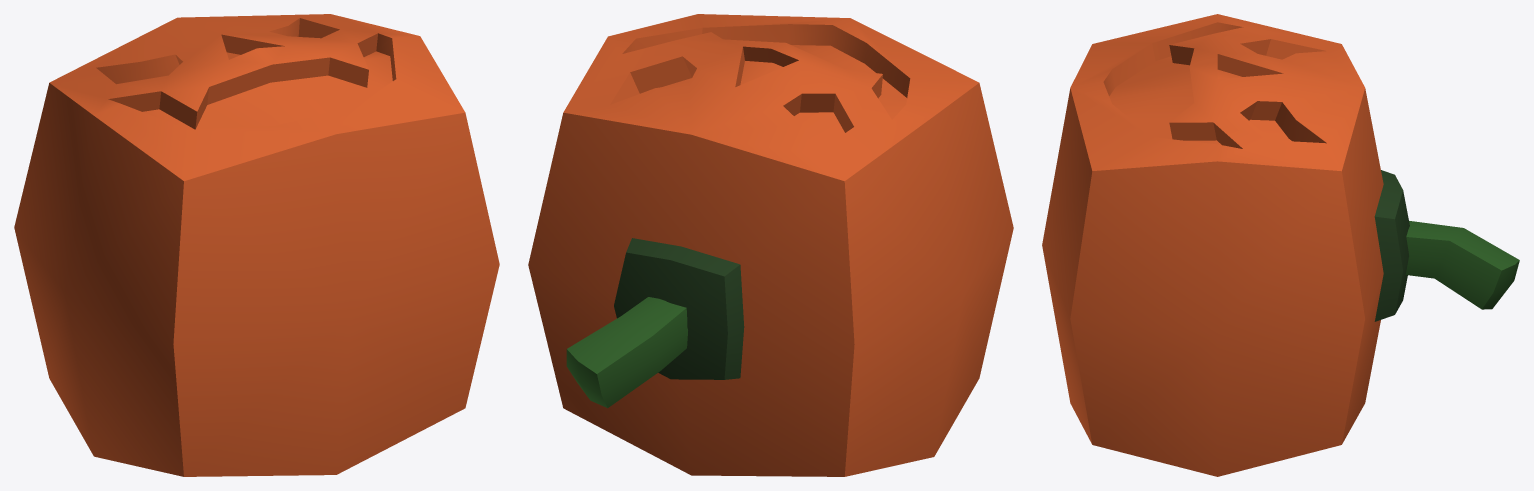
The model's file is Pumpkin 01.FBX.
The picture shows the model from 3 angles, left to right: view 1: azimuth 30°, elevation 25°; view 2: azimuth 150°, elevation 25°; view 3: azimuth 270°, elevation 25°; orthographic projection. The views are drawn at different scales.
Visible parts, largest first — view 1: Pumpkin 01, Pumpkin 01 Glow; view 2: Pumpkin 01, Pumpkin 01 Glow; view 3: Pumpkin 01, Pumpkin 01 Glow.
Part boxes in pixels (box(x1,y1,x2,y2)): Pumpkin 01: box(14, 14, 499, 476); Pumpkin 01 Glow: box(143, 51, 392, 129); Pumpkin 01: box(528, 14, 1013, 476); Pumpkin 01 Glow: box(663, 45, 906, 154); Pumpkin 01: box(1042, 14, 1519, 476); Pumpkin 01 Glow: box(1109, 56, 1291, 144).
Size of the model in its own units: 92.88 by 92.19 by 108.
